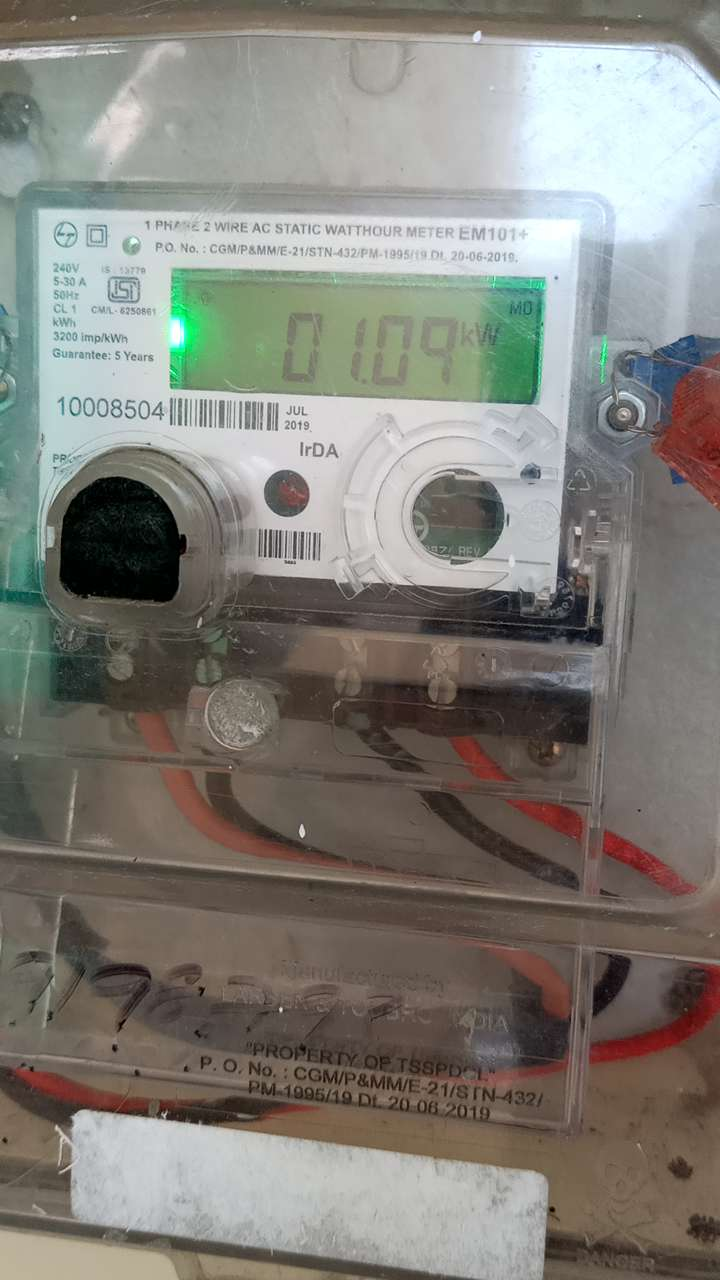meter_serial_number: (53, 392, 171, 425)
